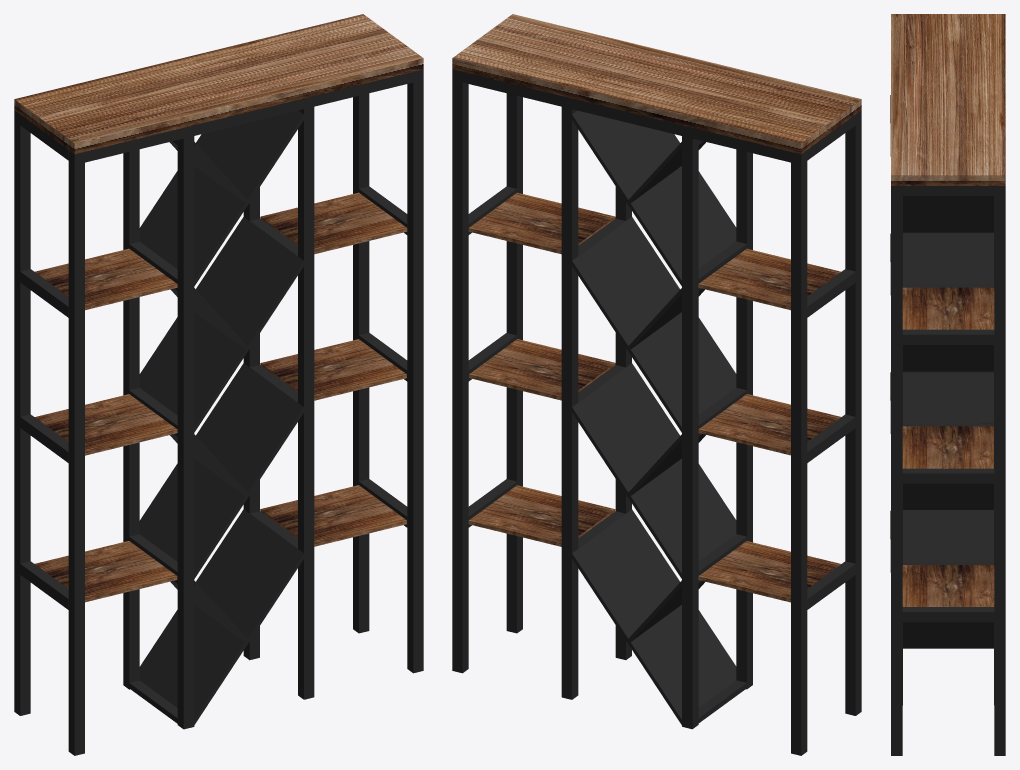
The model's file is etagere_2.glb.
The picture shows the model from 3 angles, left to right: view 1: azimuth 30°, elevation 25°; view 2: azimuth 150°, elevation 25°; view 3: azimuth 270°, elevation 25°; orthographic projection. The views are drawn at different scales.
Visible parts, largest first — view 1: Cube.036, Cube.010, Cube, Cube.012, Cube.001, Cube.016, Cube.020, Cube.008, Cube.005, Cube.014, Cube.009, Cube.003 (+21 smaller); view 2: Cube.036, Cube.010, Cube, Cube.012, Cube.016, Cube.004, Cube.014, Cube.009, Cube.003, Cube.020, Cube.008, Cube.001 (+19 smaller); view 3: Cube.036, Cube.009, Cube.008, Cube.002, Cube.006, Cube.011, Cube.023, Cube.021, Cube.024, Cube.016, Cube.010, Cube (+10 smaller).
Part boxes in pixels (box(x1,y1,x2,y2)): Cube.036: box(14, 14, 423, 154); Cube.010: box(139, 363, 303, 578); Cube: box(139, 217, 303, 432); Cube.012: box(139, 509, 303, 724); Cube.001: box(177, 136, 194, 729); Cube.016: box(139, 110, 303, 285); Cube.020: box(68, 150, 84, 755); Cube.008: box(407, 69, 423, 673); Cube.005: box(298, 107, 314, 699); Cube.014: box(14, 110, 30, 715); Cube.009: box(353, 93, 369, 633); Cube.003: box(123, 149, 139, 689); Cube.036: box(452, 14, 861, 154); Cube.010: box(572, 363, 736, 578); Cube: box(572, 217, 736, 432); Cube.012: box(572, 509, 736, 724); Cube.016: box(572, 110, 736, 285); Cube.004: box(561, 107, 578, 699); Cube.014: box(791, 150, 807, 755); Cube.009: box(452, 69, 468, 673); Cube.003: box(682, 136, 698, 729); Cube.020: box(845, 110, 861, 715); Cube.008: box(506, 93, 522, 633); Cube.001: box(736, 149, 752, 689); Cube.036: box(891, 14, 1005, 185); Cube.009: box(994, 186, 1005, 755); Cube.008: box(891, 186, 902, 755); Cube.002: box(890, 233, 993, 294); Cube.006: box(890, 372, 993, 433); Cube.011: box(890, 510, 993, 572); Cube.023: box(902, 287, 994, 329); Cube.021: box(902, 426, 993, 468); Cube.024: box(902, 565, 994, 606); Cube.016: box(903, 196, 993, 232); Cube.010: box(903, 423, 993, 509); Cube: box(903, 345, 993, 371).
Bounding box in the file's own units: 1 × 1.68 × 0.3022.
38 materials, 7 textured.
